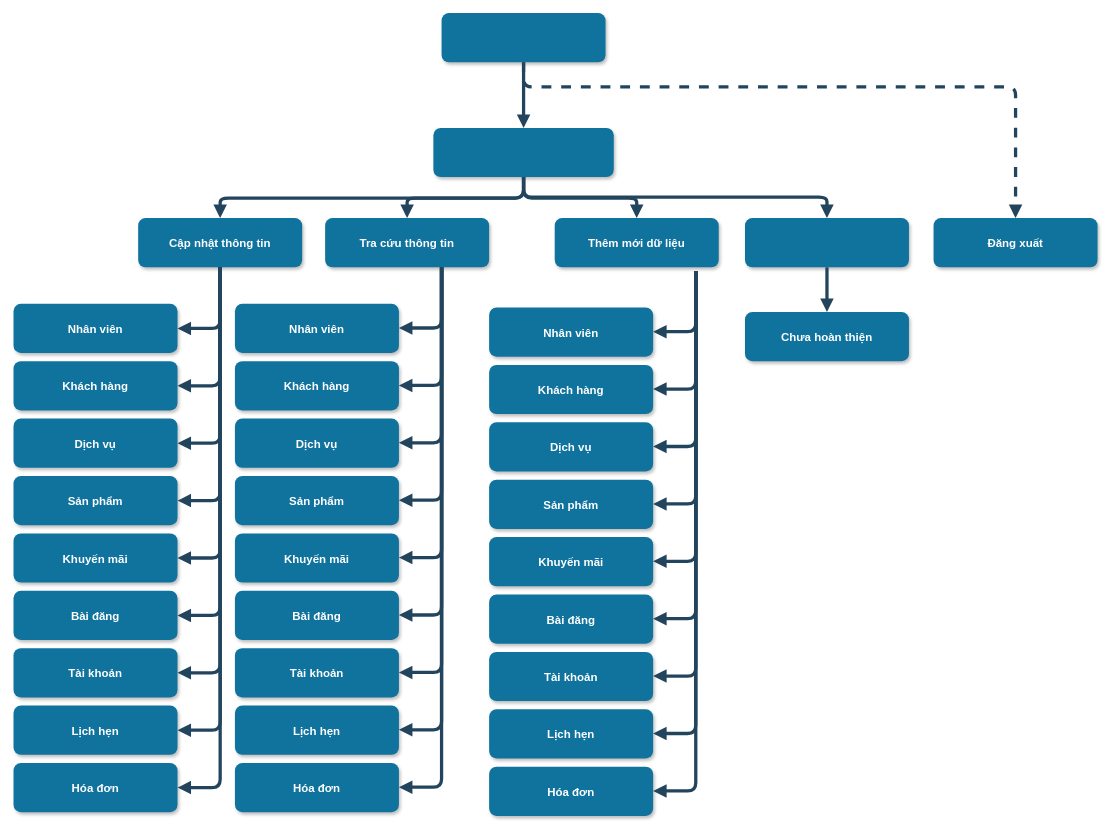
Some shapes in this 1111 by 829 pixel diagram are drawn without their labels. Here are the shapes that lost their labels. From the top down, the centre of each, then its label:
At point (524, 38): "Admin".
At point (524, 153): "Quản lý".
At point (827, 243): "Thống kê số liệu".
